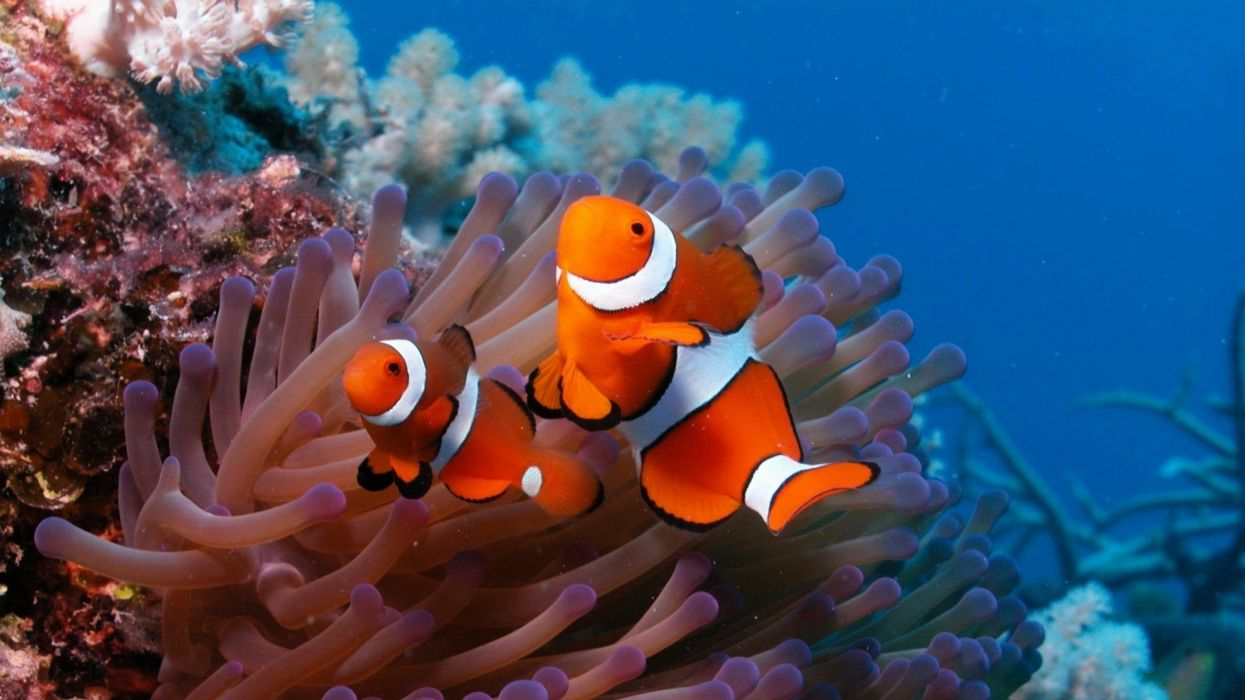fish: (517, 184, 868, 559), (334, 331, 614, 546)
